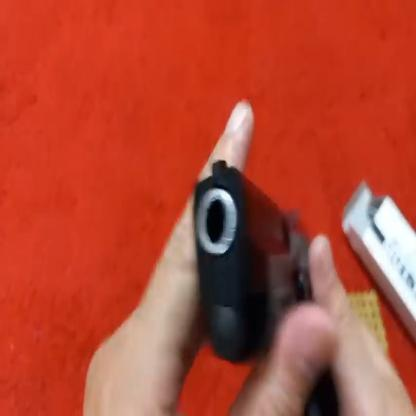handgun: (187, 150, 328, 358)
